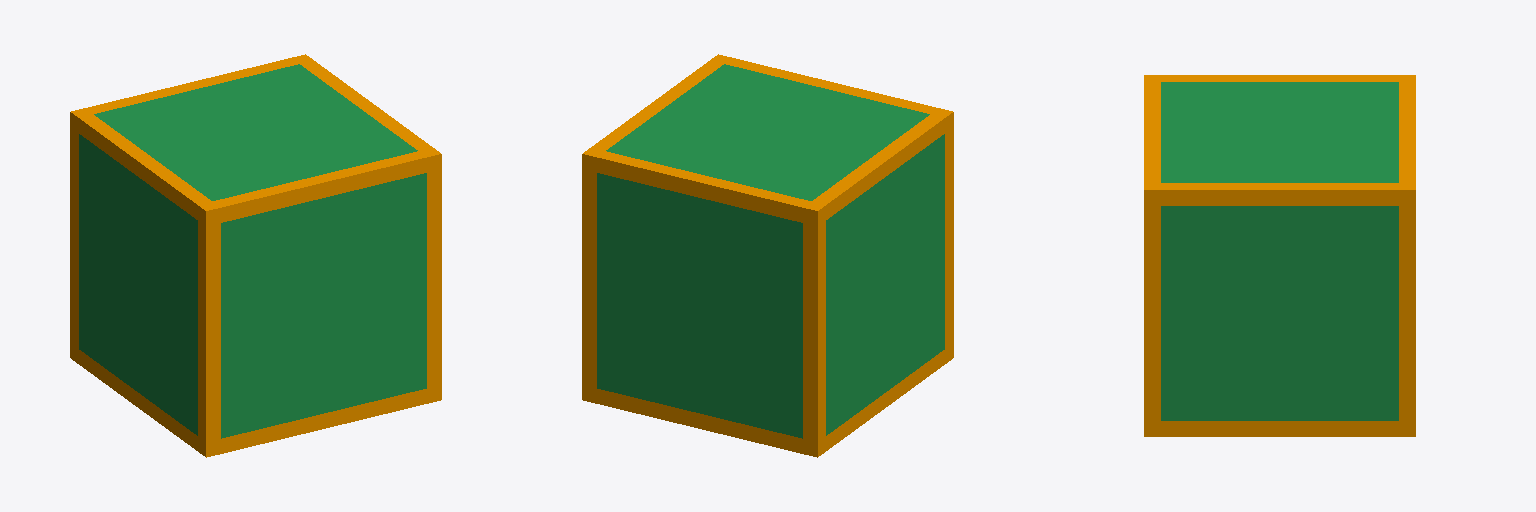
The picture shows the model from 3 angles: view 1: azimuth 30°, elevation 25°; view 2: azimuth 150°, elevation 25°; view 3: azimuth 270°, elevation 25°; orthographic projection.
Parts seen in each view (by area): view 1: Cube.001; view 2: Cube.001; view 3: Cube.001.
Part boxes in pixels (bbox=[...]): Cube.001: bbox=[70, 54, 441, 457]; Cube.001: bbox=[582, 54, 953, 457]; Cube.001: bbox=[1144, 75, 1415, 436].
Bounding box in the file's own units: 1 × 1 × 1.
Materials: 1 (1 with a texture image).